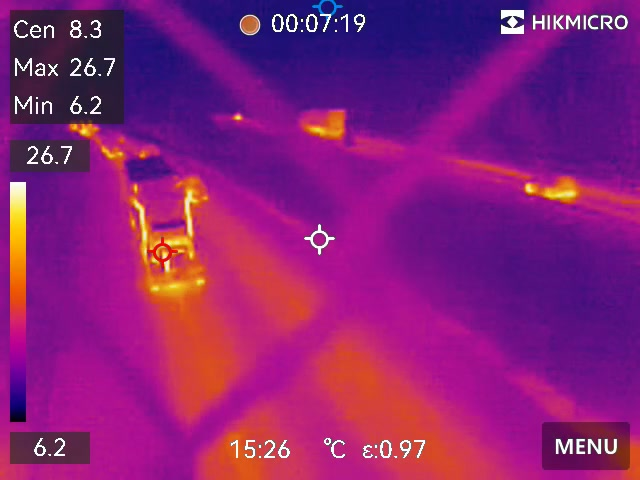heavyTruck: (121, 158, 208, 295), (520, 168, 579, 203), (298, 109, 353, 140)
